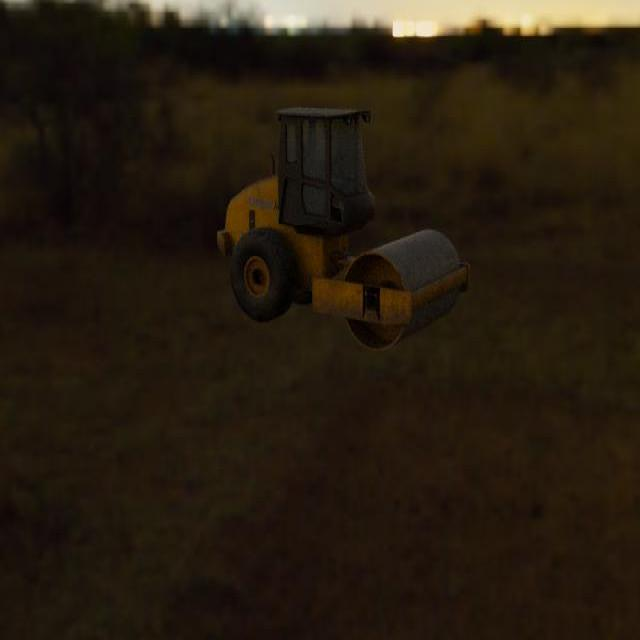Roller: (216, 107, 470, 350)
